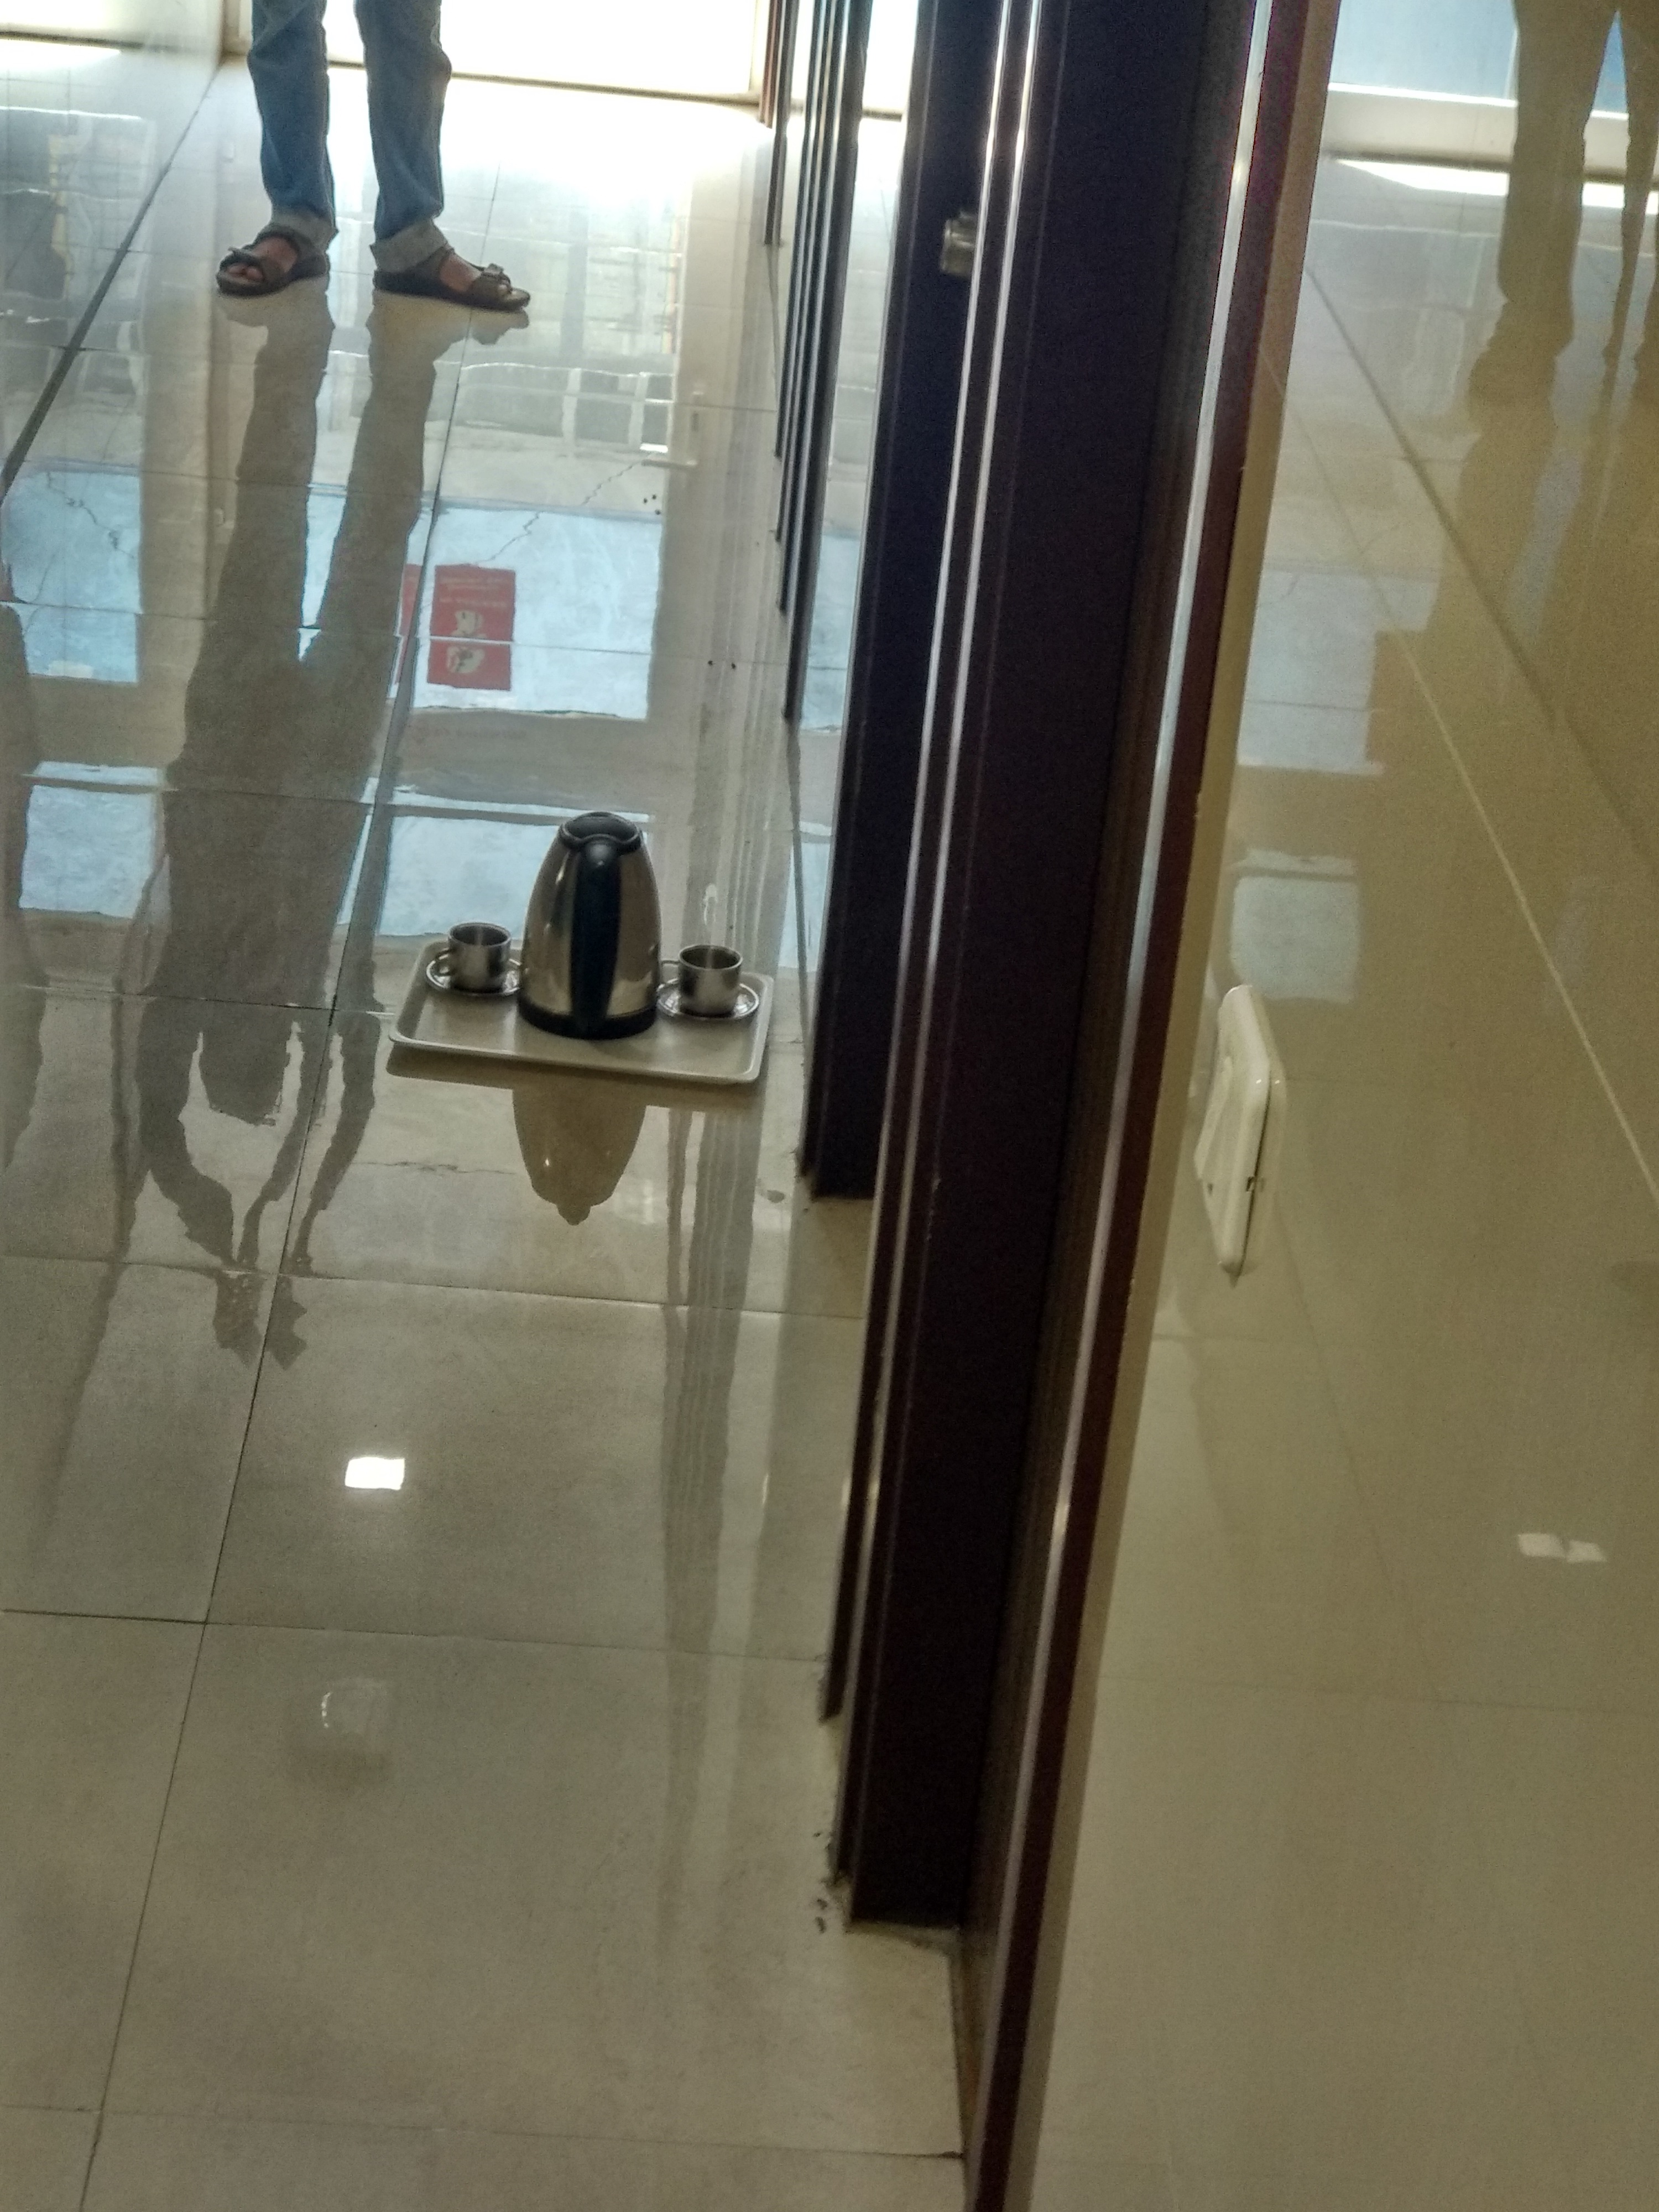CUP: (671, 937, 749, 1022), (439, 923, 516, 995)
JUG: (530, 812, 662, 1036)
